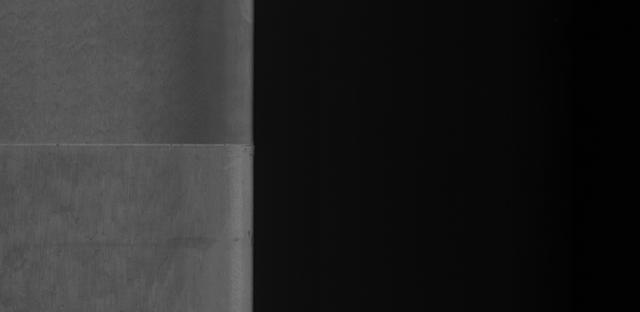welding_line: (2, 131, 277, 157)
